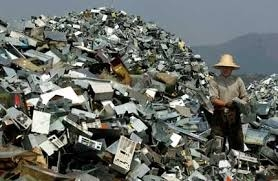metal: (105, 133, 143, 172), (70, 132, 109, 155), (83, 76, 116, 103), (25, 69, 47, 96)
